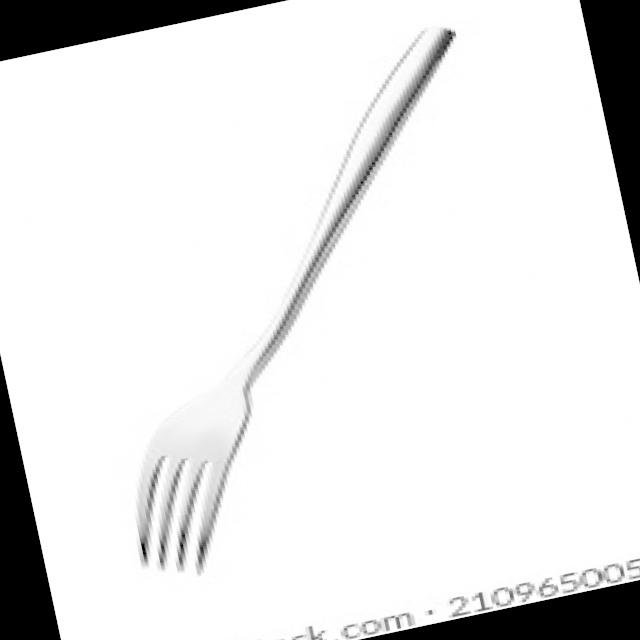fork: (38, 16, 574, 592)
